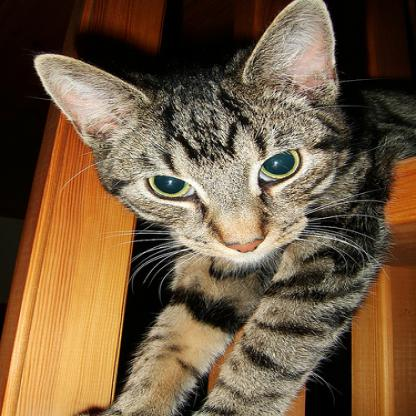cat: (8, 8, 374, 415)
